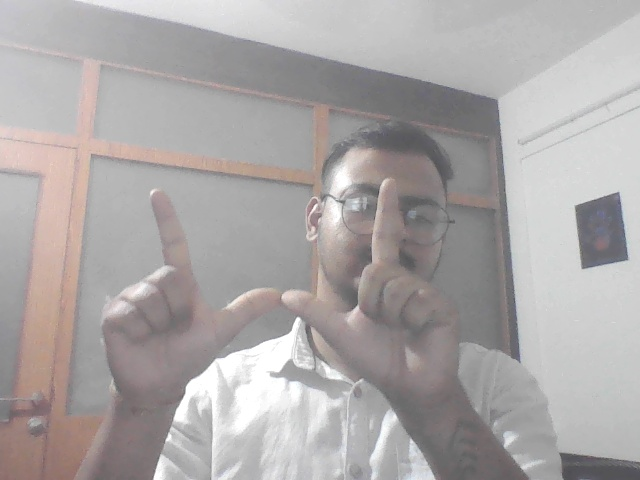Whatever: (91, 176, 477, 418)
